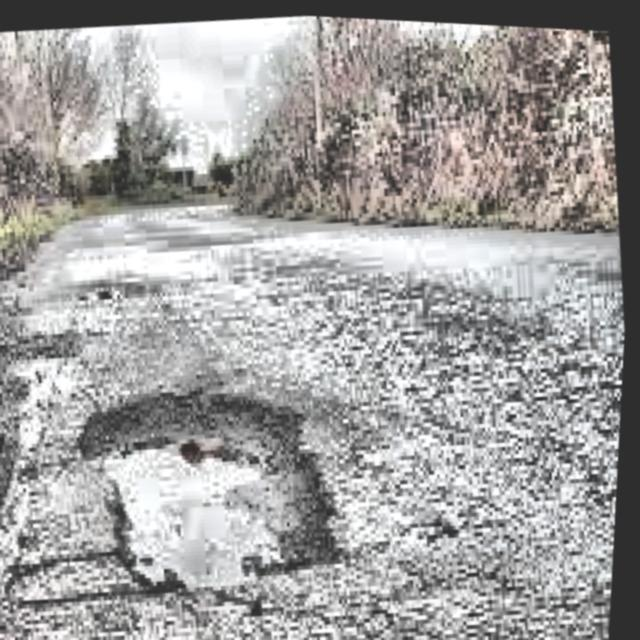pothole: (79, 374, 336, 581)
